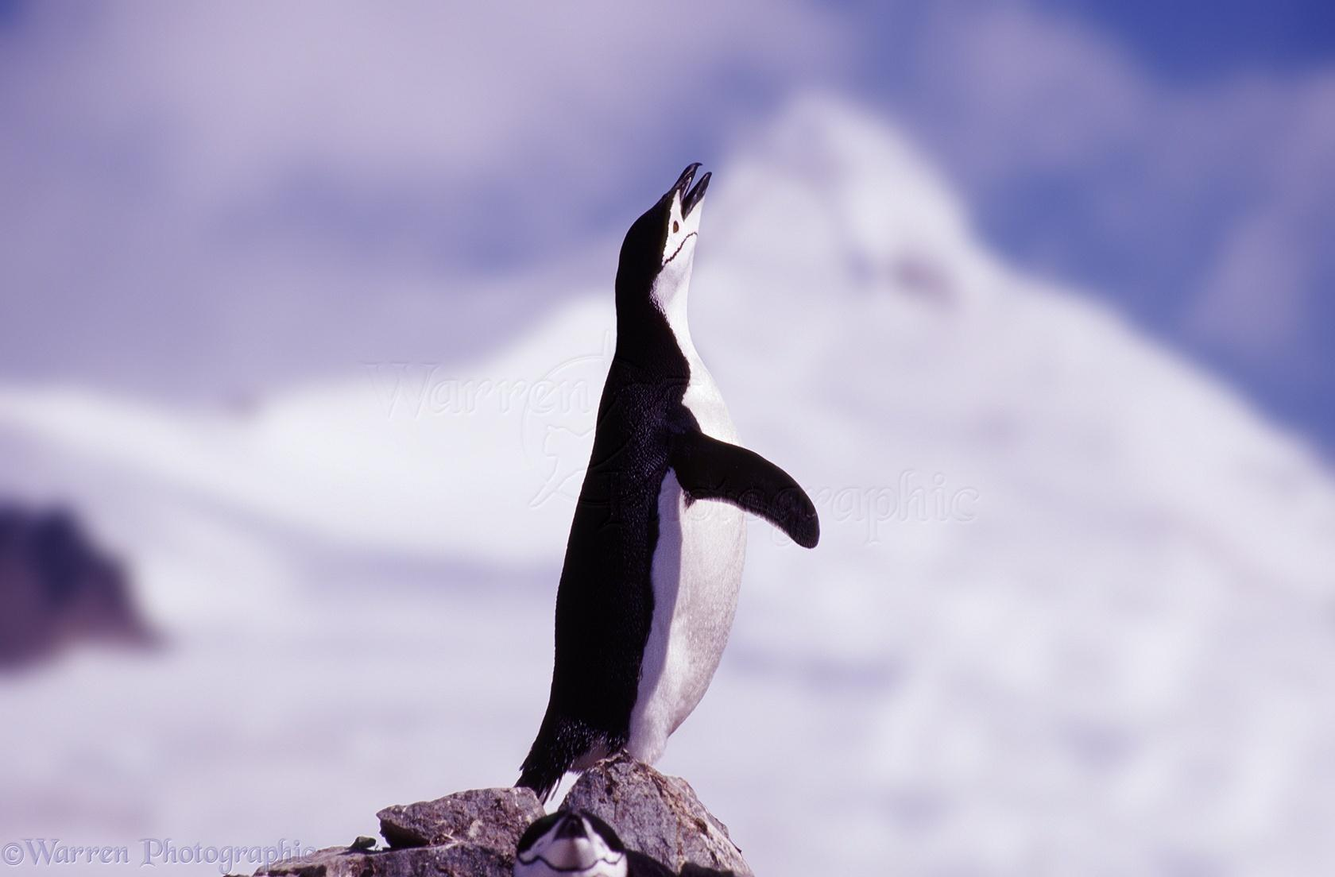Penguin: (513, 160, 818, 804), (513, 809, 733, 876)
